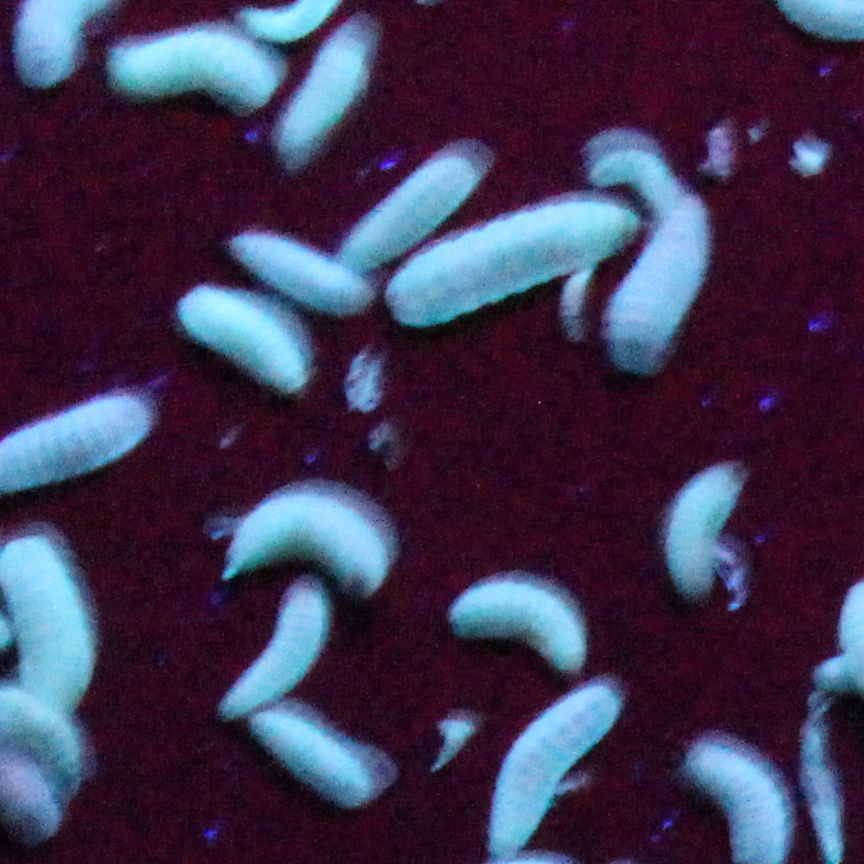larve: (391, 200, 636, 326), (492, 686, 621, 855), (606, 195, 712, 365), (336, 152, 477, 274), (222, 493, 387, 588), (112, 28, 280, 113), (221, 584, 325, 718), (180, 286, 307, 390), (450, 578, 584, 670), (251, 709, 380, 804), (228, 232, 372, 313), (281, 28, 369, 149), (666, 466, 740, 593), (590, 150, 687, 211)
